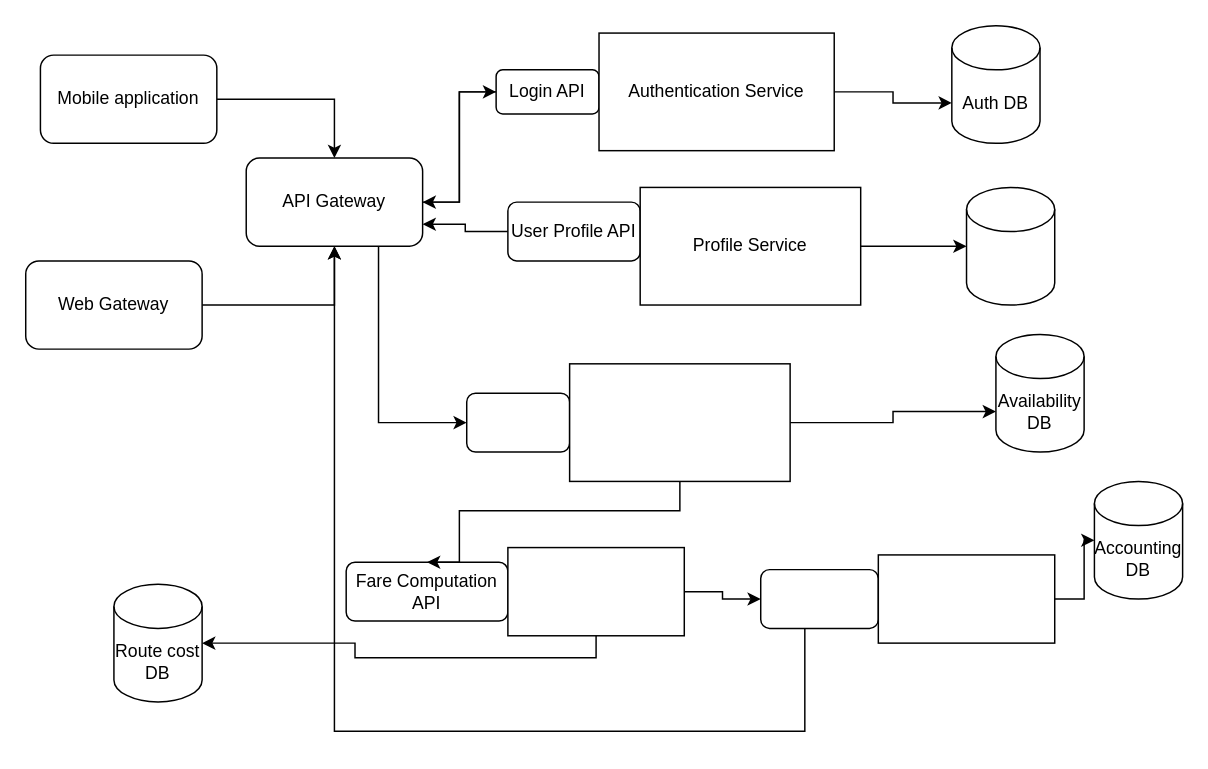
The diagram is 1208 pixels wide and 769 high, and some of its shapes have lost their labels. Here are the shapes that lost their labels. From the top down, the centre of each, then its label:
the point at 1010,245: Profile DB
the point at 517,422: Booking API
the point at 679,421: Booking Services
the point at 595,591: Ride Cost Service
the point at 818,598: Payment API
the point at 966,598: Payment Service
